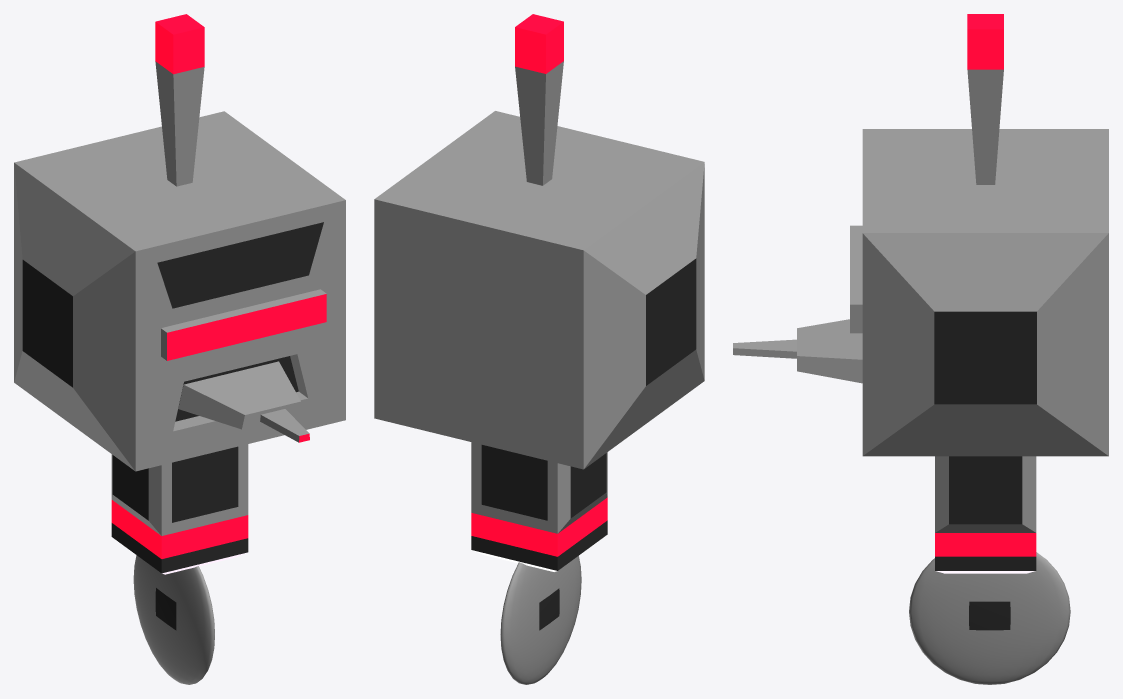
Rendered from Robot.fbx.
3 views of the same model, side by side, from view 1: azimuth 30°, elevation 25°; view 2: azimuth 150°, elevation 25°; view 3: azimuth 270°, elevation 25° (orthographic).
Visible parts, largest first — view 1: Cube, Sphere; view 2: Cube, Sphere; view 3: Cube, Sphere.
Boxes of the visible parts, x1,y1,x2,y2 form: Cube: (14,14,345,574); Sphere: (133,555,214,684); Cube: (374,14,704,571); Sphere: (500,555,581,684); Cube: (733,14,1108,573); Sphere: (909,552,1070,684).
Bounding box in the file's own units: 112 × 265 × 136.
